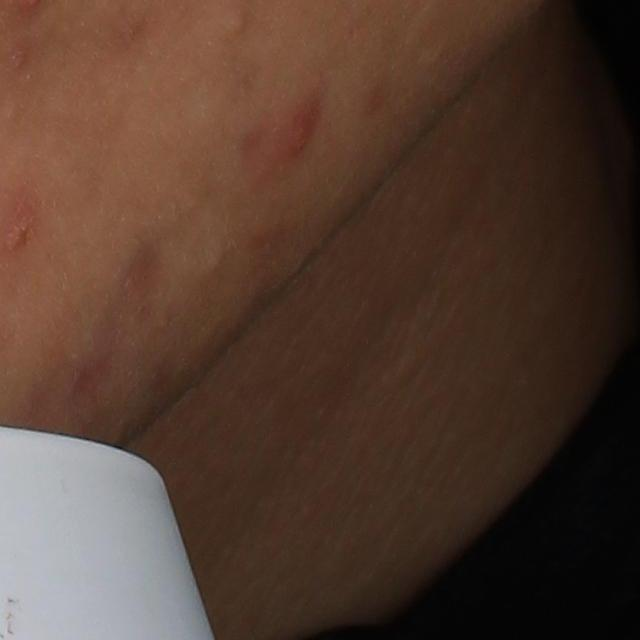comedo: (219, 9, 248, 36), (205, 248, 225, 274)
papule: (262, 100, 325, 174)
